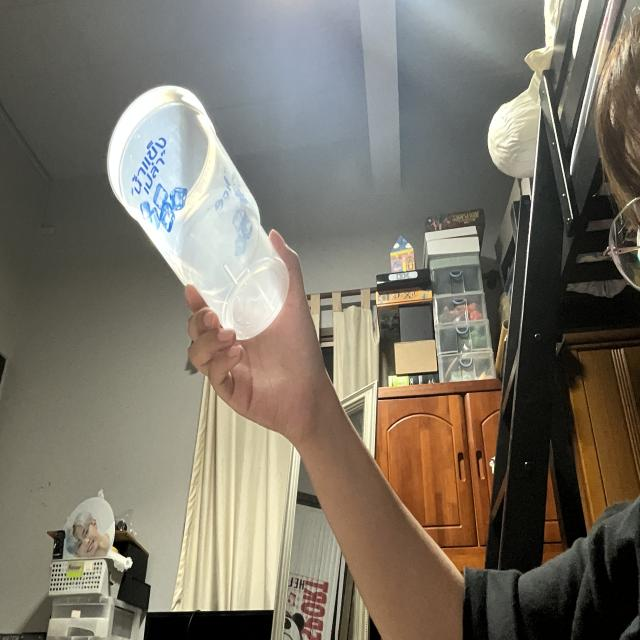cup: (107, 84, 290, 340)
